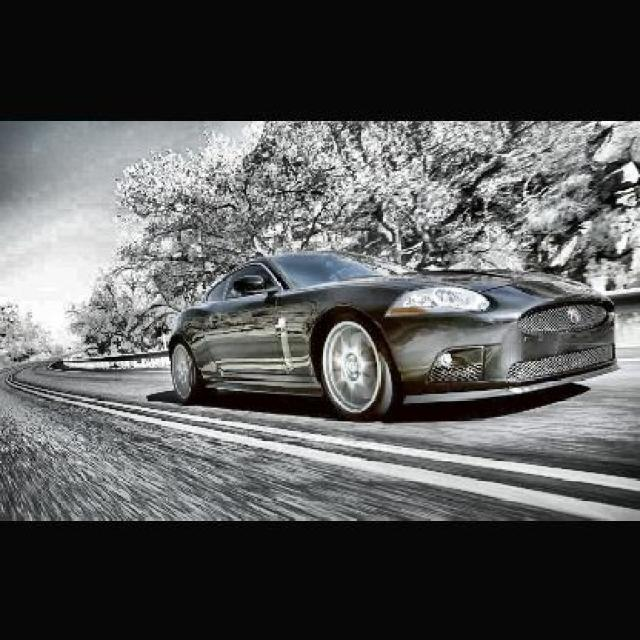black: (137, 263, 640, 397)
